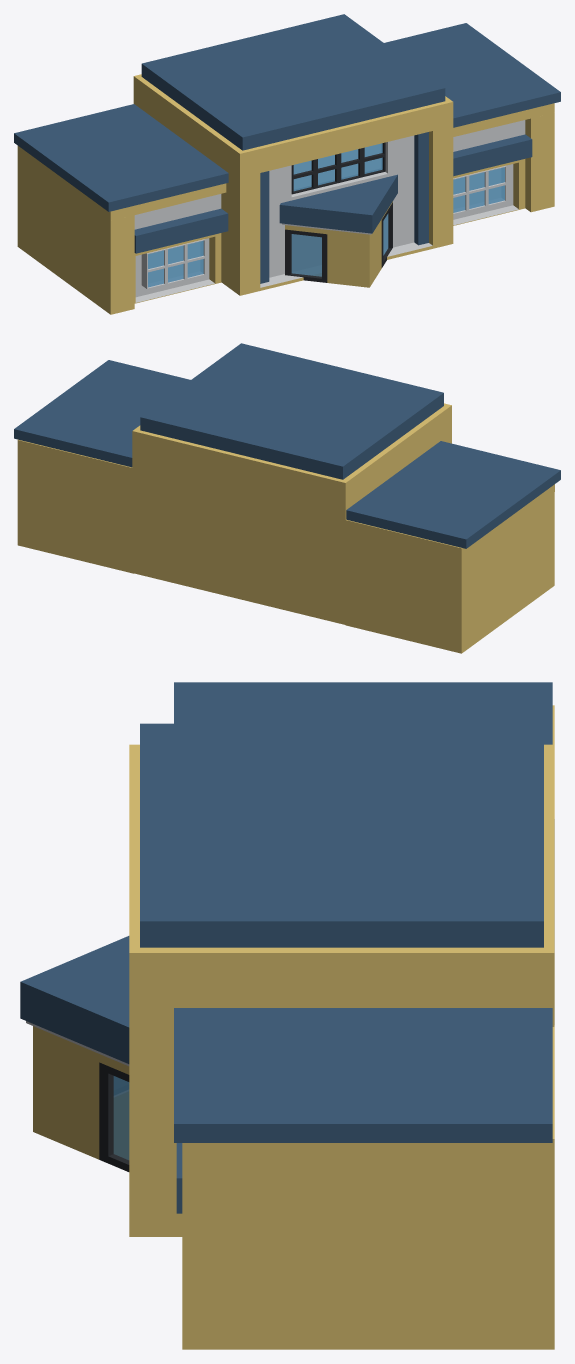
Rendered from BUILDING.fbx.
3 renders of one model, top to bottom at view 1: azimuth 30°, elevation 25°; view 2: azimuth 150°, elevation 25°; view 3: azimuth 270°, elevation 25°, orthographic. The views are drawn at different scales.
Parts seen in each view (by area): view 1: Cube.019; view 2: Cube.019; view 3: Cube.019.
Boxes of the visible parts, x1=… form: Cube.019: x1=14, y1=14, x2=560, y2=314; Cube.019: x1=14, y1=343, x2=560, y2=653; Cube.019: x1=20, y1=682, x2=554, y2=1349.
Bounding box in the file's own units: 14152 × 4649 × 7235.
